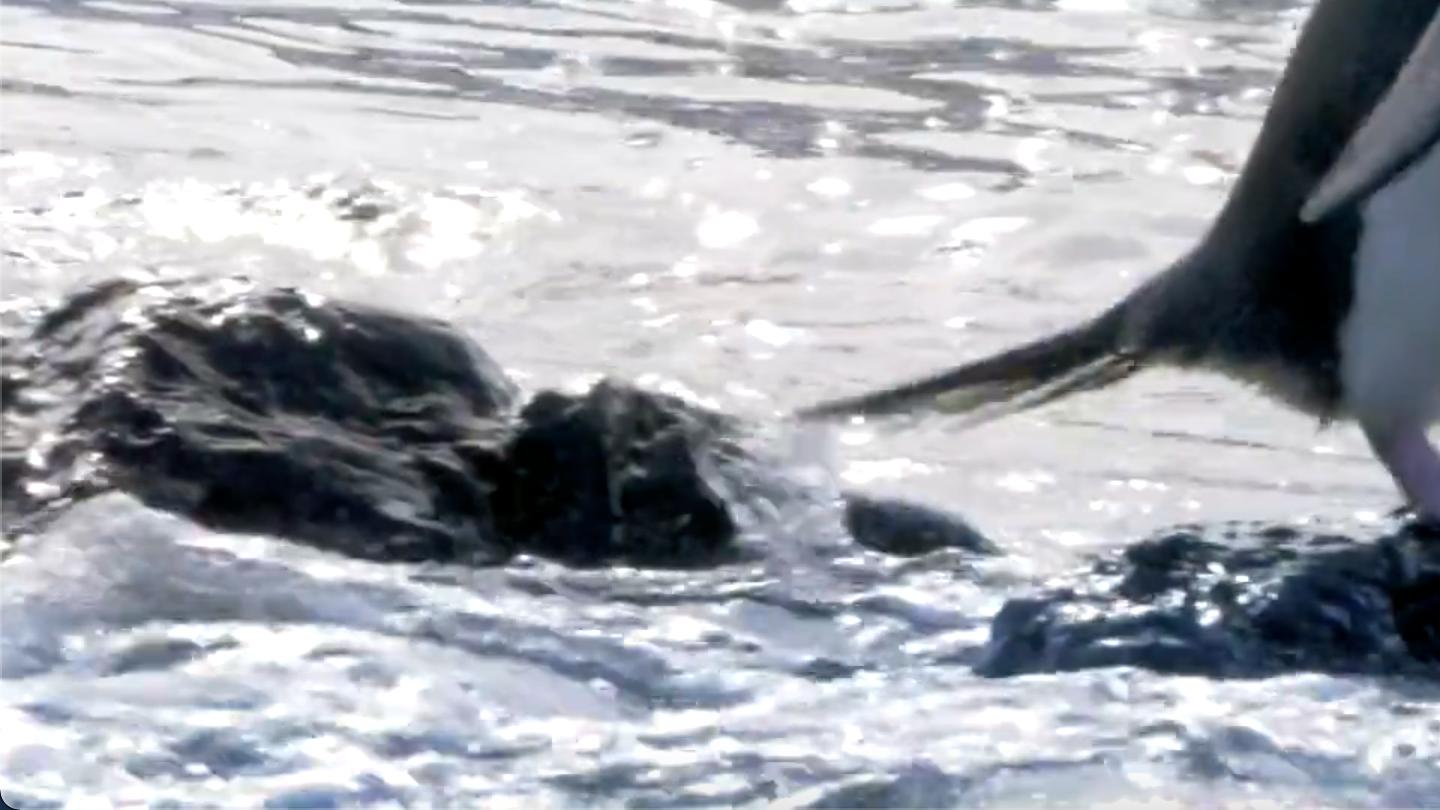Chinstrap Penguin: (848, 0, 1440, 529)
